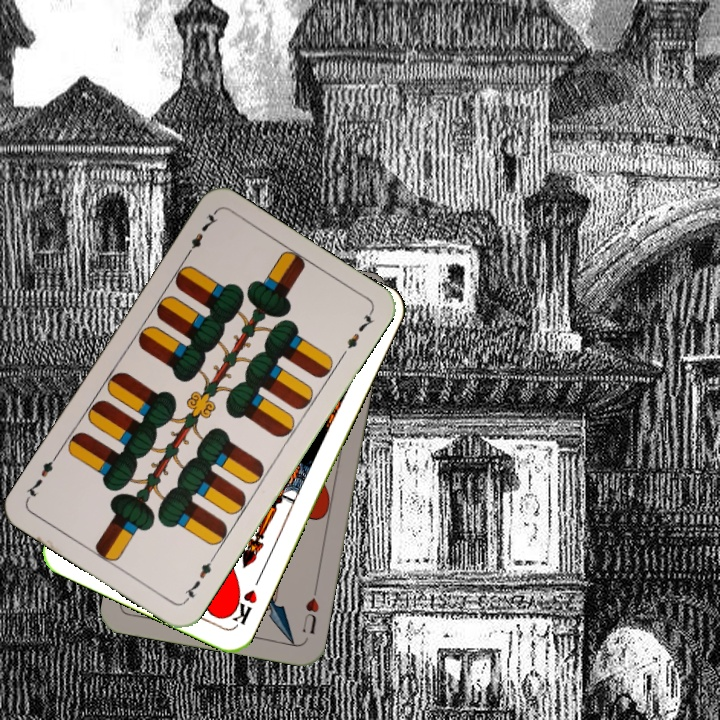E7: (181, 208, 221, 261), (180, 552, 219, 605)
HK: (223, 573, 263, 629)
HU: (298, 582, 322, 637)
